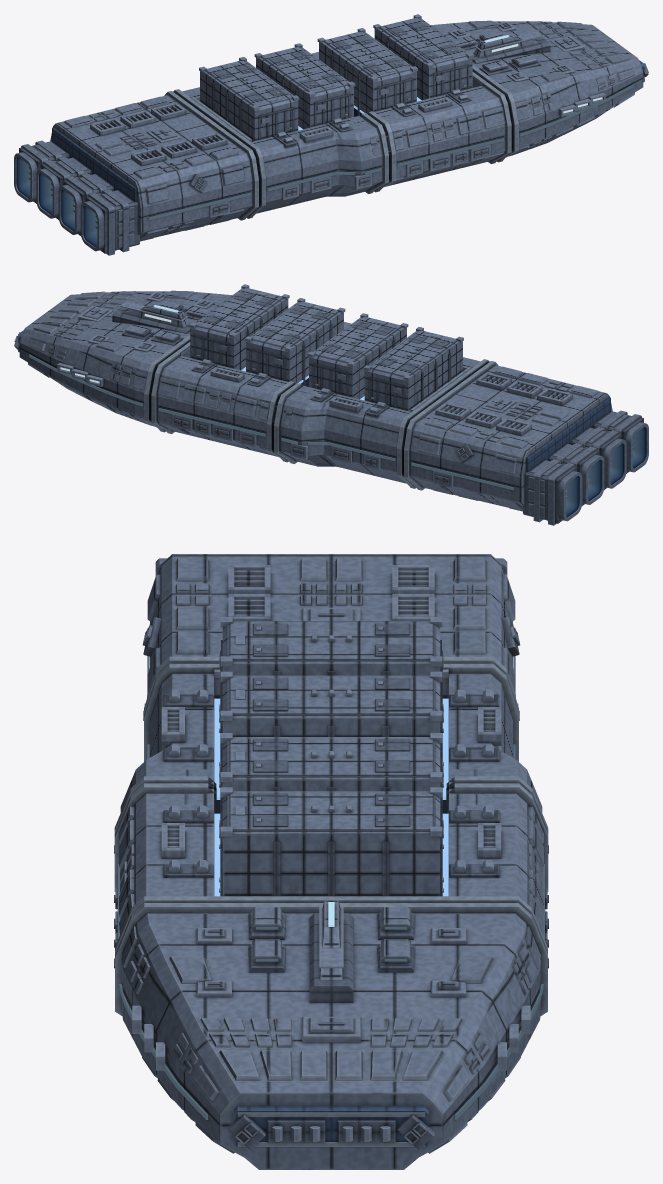
3 views of the same model, one above another, from view 1: azimuth 30°, elevation 25°; view 2: azimuth 150°, elevation 25°; view 3: azimuth 270°, elevation 25° (orthographic). The views are drawn at different scales.
Parts seen in each view (by area): view 1: O2_37; view 2: O2_37; view 3: O2_37.
Part boxes in pixels (x1=…): O2_37: x1=14, y1=14, x2=648, y2=255; O2_37: x1=14, y1=284, x2=648, y2=525; O2_37: x1=114, y1=554, x2=548, y2=1169.
Size of the model in its own units: 1 by 0.1821 by 0.3307.
16 materials, 4 textured.
